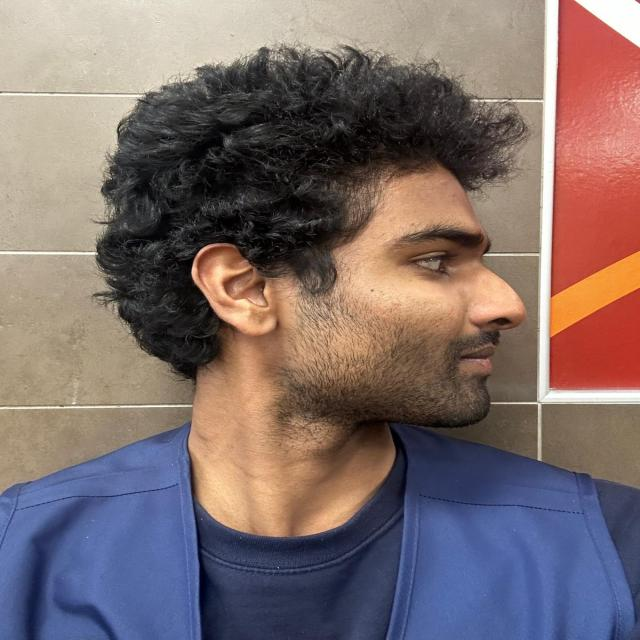nocap: (74, 48, 526, 239)
